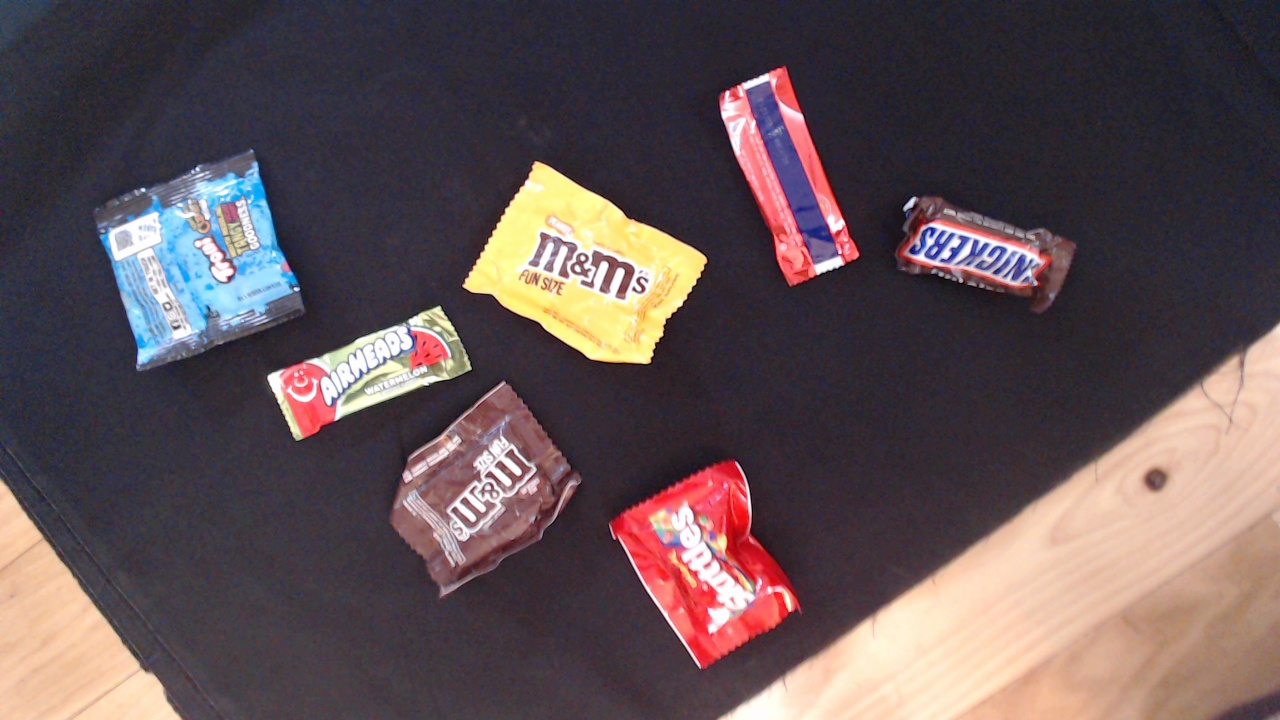MMs_peanut: (383, 379, 603, 623)
MMs_regular: (452, 115, 711, 374)
airheads: (228, 310, 495, 441), (714, 68, 867, 286)
gummy_worms: (62, 152, 308, 361)
skittles: (605, 458, 849, 672)
snickers: (891, 178, 1083, 326)
